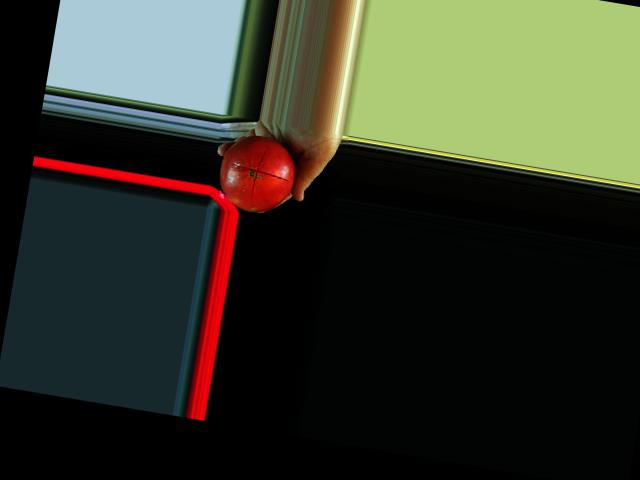tomato: (213, 129, 300, 217)
